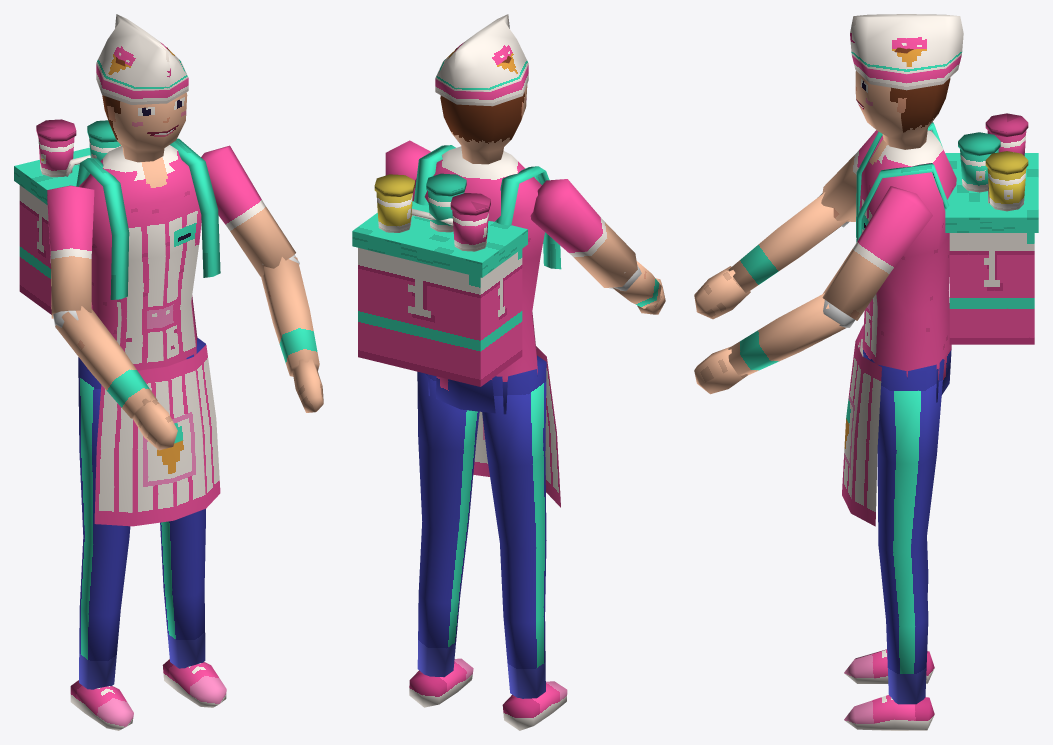
Rendered from Crew Carry Pink.fbx.
3 renders of one model, left to right at view 1: azimuth 30°, elevation 25°; view 2: azimuth 150°, elevation 25°; view 3: azimuth 270°, elevation 25°, orthographic. The views are drawn at different scales.
Visible parts, largest first — view 1: Crew Carry Pink torso, Crew Carry Pink apron, Crew Carry Pink leg R.001, Crew Carry Pink leg L.001, Crew Carry Pink hat, Crew Carry Pink arm R upper, Crew Carry Pink arm L upper, Crew Carry Pink arm R forearm.001, Crew Carry Pink arm L forearm.001, Crew Carry Pink head, Crew Carry Pink cooler, Crew Carry Pink strap -1 (+9 smaller); view 2: Crew Carry Pink cooler, Crew Carry Pink leg R.001, Crew Carry Pink leg L.001, Crew Carry Pink torso, Crew Carry Pink arm R upper, Crew Carry Pink hat, Crew Carry Pink cooler lid, Crew Carry Pink head, Crew Carry Pink apron, Crew Carry Pink shoe R, Crew Carry Pink shoe L, Crew Carry Pink strap -1 (+9 smaller); view 3: Crew Carry Pink leg L.001, Crew Carry Pink torso, Crew Carry Pink cooler, Crew Carry Pink hat, Crew Carry Pink arm L upper, Crew Carry Pink apron, Crew Carry Pink head, Crew Carry Pink arm L forearm.001, Crew Carry Pink arm R forearm.001, Crew Carry Pink cooler lid, Crew Carry Pink shoe L, Crew Carry Pink arm R upper (+10 smaller).
Boxes of the visible parts, left/top/right/bottom form: Crew Carry Pink torso: left=78, top=145, right=201, bottom=370; Crew Carry Pink apron: left=94, top=345, right=220, bottom=526; Crew Carry Pink leg R.001: left=78, top=357, right=130, bottom=689; Crew Carry Pink leg L.001: left=160, top=337, right=205, bottom=668; Crew Carry Pink hat: left=96, top=14, right=188, bottom=104; Crew Carry Pink arm R upper: left=47, top=185, right=94, bottom=318; Crew Carry Pink arm L upper: left=201, top=145, right=295, bottom=276; Crew Carry Pink arm R forearm.001: left=55, top=306, right=157, bottom=418; Crew Carry Pink arm L forearm.001: left=261, top=257, right=319, bottom=376; Crew Carry Pink head: left=102, top=47, right=187, bottom=162; Crew Carry Pink cooler: left=19, top=185, right=92, bottom=314; Crew Carry Pink strap -1: left=76, top=158, right=129, bottom=299; Crew Carry Pink cooler: left=358, top=247, right=522, bottom=386; Crew Carry Pink leg R.001: left=482, top=355, right=546, bottom=698; Crew Carry Pink leg L.001: left=417, top=371, right=479, bottom=677; Crew Carry Pink torso: left=414, top=146, right=544, bottom=414; Crew Carry Pink arm R upper: left=530, top=179, right=637, bottom=287; Crew Carry Pink hat: left=435, top=14, right=528, bottom=106; Crew Carry Pink cooler lid: left=352, top=201, right=527, bottom=277; Crew Carry Pink head: left=440, top=47, right=527, bottom=164; Crew Carry Pink apron: left=473, top=346, right=560, bottom=507; Crew Carry Pink shoe R: left=502, top=681, right=567, bottom=730; Crew Carry Pink shoe L: left=409, top=658, right=473, bottom=707; Crew Carry Pink strap -1: left=495, top=166, right=561, bottom=269; Crew Carry Pink leg L.001: left=870, top=359, right=944, bottom=704; Crew Carry Pink torso: left=859, top=130, right=956, bottom=402; Crew Carry Pink cooler: left=949, top=233, right=1034, bottom=344; Crew Carry Pink hat: left=850, top=14, right=963, bottom=90; Crew Carry Pink arm L upper: left=822, top=186, right=932, bottom=320; Crew Carry Pink apron: left=842, top=325, right=881, bottom=526; Crew Carry Pink head: left=855, top=47, right=950, bottom=149; Crew Carry Pink arm L forearm.001: left=728, top=293, right=845, bottom=375; Crew Carry Pink arm R forearm.001: left=728, top=192, right=849, bottom=293; Crew Carry Pink cooler lid: left=945, top=153, right=1038, bottom=232; Crew Carry Pink shoe L: left=844, top=695, right=934, bottom=730; Crew Carry Pink arm R upper: left=821, top=130, right=931, bottom=221.
Bounding box in the file's own units: 0.686 × 1.8 × 0.8119.
19 materials, 18 textured.
